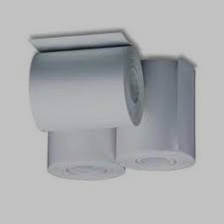tissue: (19, 25, 149, 135), (110, 51, 202, 176), (42, 122, 129, 185)
